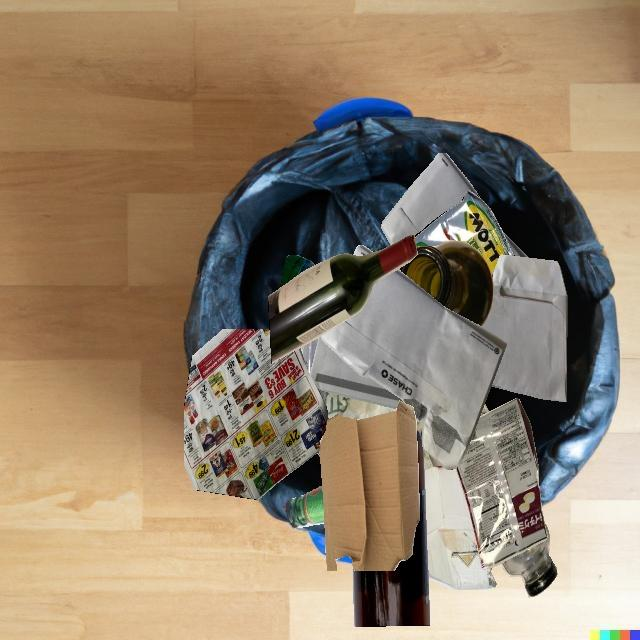cardboard: (319, 400, 420, 571), (424, 466, 496, 590)
glass: (268, 234, 417, 363), (353, 430, 430, 627), (399, 240, 494, 327), (501, 522, 557, 597), (284, 485, 324, 529)
paper: (321, 269, 507, 470), (184, 329, 329, 500), (482, 254, 567, 402), (381, 153, 480, 245), (310, 335, 404, 409), (320, 404, 424, 465)
plastic: (455, 398, 547, 570), (280, 256, 315, 288), (303, 337, 319, 374)
trash: (415, 190, 514, 280)
